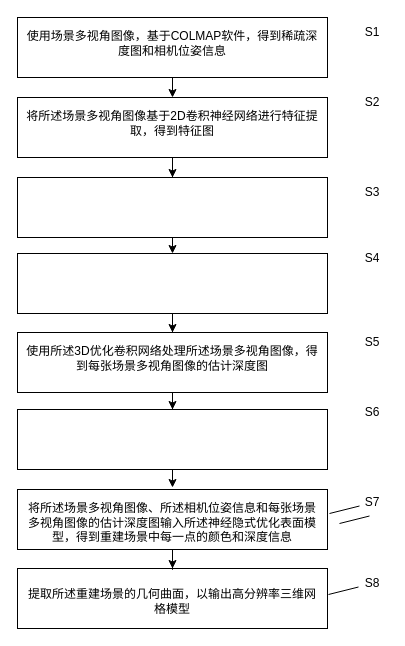
Some shapes in this 405 by 646 pixel diagram are drawn without their labels. The shapes that lost their labels are listed below. From the top down, each one's box as (x1, y1, x2, y2) in pixels, then its label:
(16, 176, 328, 238): 将所述相机位姿信息和对应场景多视角图像提取出来的特征图通过可微分的单应性变换，得到3D代价体
(16, 252, 328, 314): 使用3D卷积网络对所述3D代价体进行训练，得到深度值，使其与所述步骤S1中稀疏深度图的损失最小化，从而优化网络参数，得到3D优化卷积网络
(16, 408, 328, 470): 使用每张场景多视角图像的估计深度图指导优化神经隐式表面模型，得到神经隐式优化表面模型
